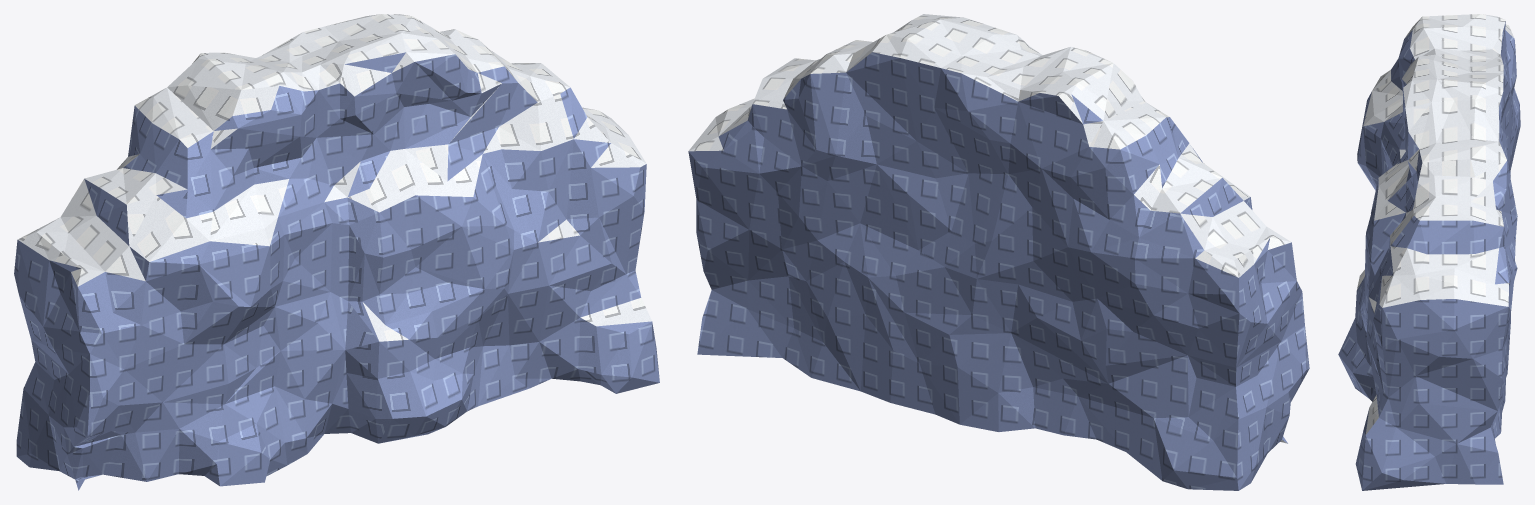
Rendered from IceCliffWall.glb.
3 renders of one model, left to right at view 1: azimuth 30°, elevation 25°; view 2: azimuth 150°, elevation 25°; view 3: azimuth 270°, elevation 25°, orthographic. The views are drawn at different scales.
Parts seen in each view (by area): view 1: IceCliffWall_Rock, IceCliffWall_Top; view 2: IceCliffWall_Rock, IceCliffWall_Top; view 3: IceCliffWall_Rock, IceCliffWall_Top.
Boxes of the visible parts, <box> form: IceCliffWall_Rock: <box>14,52,659,490</box>; IceCliffWall_Top: <box>17,14,651,479</box>; IceCliffWall_Rock: <box>688,52,1309,490</box>; IceCliffWall_Top: <box>688,14,1291,443</box>; IceCliffWall_Rock: <box>1338,21,1520,490</box>; IceCliffWall_Top: <box>1357,14,1514,434</box>.
Size of the model in its own units: 20.41 by 12.8 by 6.46.
Materials: 2 (2 with a texture image).
